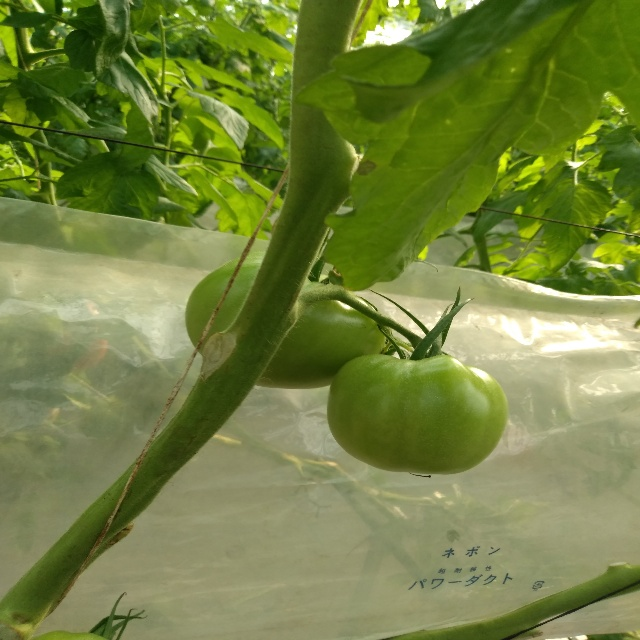b_green: (185, 250, 386, 389), (326, 354, 508, 475)
